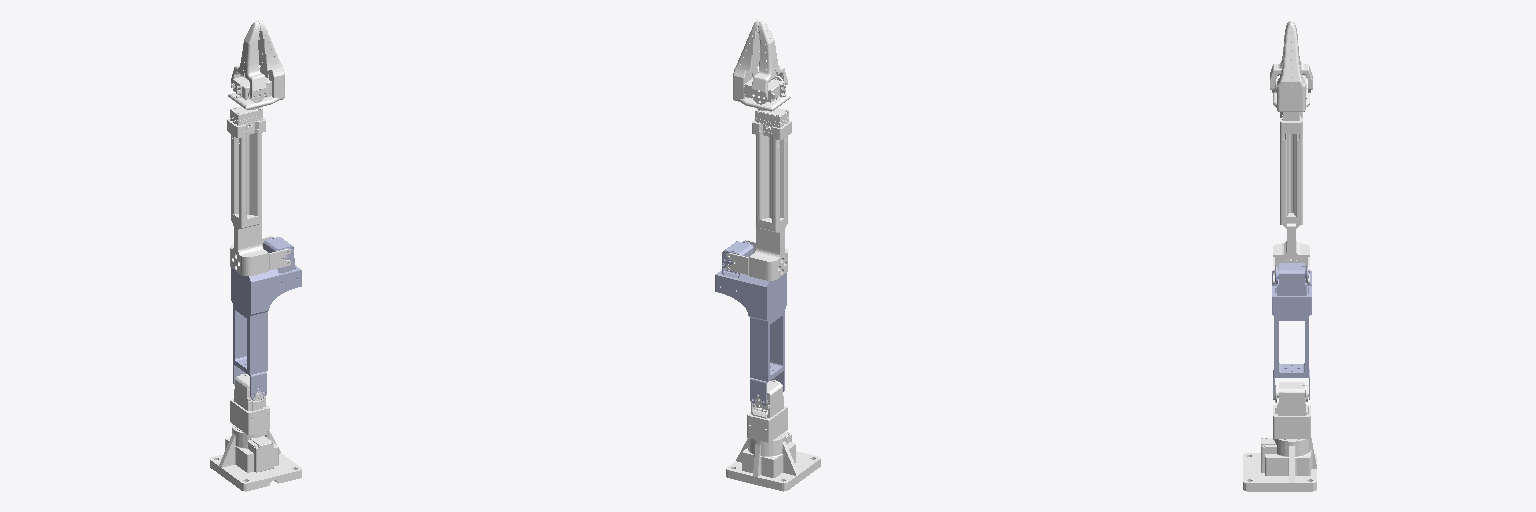
The robot description file, URDF, robot "flying_hand_follower":
<?xml version="1.0" encoding="utf-8"?>
<!-- This URDF was automatically created by SolidWorks to URDF Exporter! Originally created by Stephen Brawner (brawner@gmail.com)
     Commit Version: 1.6.0-4-g7f85cfe  Build Version: 1.6.7995.38578
     For more information, please see http://wiki.ros.org/sw_urdf_exporter -->
<robot
  name="flying_hand_follower">

  <mujoco>
    <compiler meshdir="meshes/" balanceinertia="true" discardvisual="false"/>
  </mujoco>

  <link
    name="base_link">
    <inertial>
      <origin
        xyz="0 -0.00732707 0.02792215"
        rpy="0 0 0" />
      <mass
        value="0.13025" />
      <inertia
        ixx="6.958E-05"
        ixy="0"
        ixz="0"
        iyy="5.706E-05"
        iyz="-6.69E-06"
        izz="5.852E-05" />
    </inertial>
    <visual>
      <origin
        xyz="0 0 0"
        rpy="0 0 0" />
      <geometry>
        <mesh
          filename="meshes/base_link.STL" />
      </geometry>
      <material
        name="">
        <color
          rgba="1 1 1 1" />
      </material>
    </visual>
    <collision>
      <origin
        xyz="0 0 0"
        rpy="0 0 0" />
      <geometry>
        <mesh
          filename="meshes/base_link.STL" />
      </geometry>
    </collision>
  </link>
  <link
    name="link_1">
    <inertial>
      <origin
        xyz="0.00156867 0 0.03460183"
        rpy="0 0 0" />
      <mass
        value="0.08581" />
      <inertia
        ixx="3.006E-05"
        ixy="0"
        ixz="-9E-07"
        iyy="3.717E-05"
        iyz="0"
        izz="1.849E-05" />
    </inertial>
    <visual>
      <origin
        xyz="0 0 0"
        rpy="0 0 0" />
      <geometry>
        <mesh
          filename="meshes/link_1.STL" />
      </geometry>
      <material
        name="">
        <color
          rgba="1 1 1 1" />
      </material>
    </visual>
    <collision>
      <origin
        xyz="0 0 0"
        rpy="0 0 0" />
      <geometry>
        <mesh
          filename="meshes/link_1.STL" />
      </geometry>
    </collision>
  </link>
  <joint
    name="joint_1"
    type="revolute">
    <origin
      xyz="0 0 0.0528"
      rpy="0 0 -1.5708" />
    <parent
      link="base_link" />
    <child
      link="link_1" />
    <axis
      xyz="0 0 1" />
    <limit
      lower="-2.8973"
      upper="2.8973"
      effort="3.43"
      velocity="4.72" />
  </joint>
  <link
    name="link_2">
    <inertial>
      <origin
        xyz="-0.0260946 0.13096995 -0.00115046"
        rpy="0 0 0" />
      <mass
        value="0.11524" />
      <inertia
        ixx="0.00023289"
        ixy="6.19E-05"
        ixz="-1.32E-06"
        iyy="6.035E-05"
        iyz="2.87E-06"
        izz="0.00025434" />
    </inertial>
    <visual>
      <origin
        xyz="0 0 0"
        rpy="0 0 0" />
      <geometry>
        <mesh
          filename="meshes/link_2.STL" />
      </geometry>
      <material
        name="">
        <color
          rgba="0.79216 0.81961 0.93333 1" />
      </material>
    </visual>
    <collision>
      <origin
        xyz="0 0 0"
        rpy="0 0 0" />
      <geometry>
        <mesh
          filename="meshes/link_2.STL" />
      </geometry>
    </collision>
  </link>
  <joint
    name="joint_2"
    type="revolute">
    <origin
      xyz="0 0 0.04861"
      rpy="1.5708 0 -1.5708" />
    <parent
      link="link_1" />
    <child
      link="link_2" />
    <axis
      xyz="0 0 1" />
    <limit
      lower="-1.7628"
      upper="1.7628"
      effort="4.903"
      velocity="8.95" />
  </joint>
  <link
    name="link_3">
    <inertial>
      <origin
        xyz="0.03950206 0.10829022 -0.00063991"
        rpy="0 0 0" />
      <mass
        value="0.0848" />
      <inertia
        ixx="0.00051159"
        ixy="-0.002503"
        ixz="2E-08"
        iyy="2.009E-05"
        iyz="5.6E-07"
        izz="0.00051731" />
    </inertial>
    <visual>
      <origin
        xyz="0 0 0"
        rpy="0 0 0" />
      <geometry>
        <mesh
          filename="meshes/link_3.STL" />
      </geometry>
      <material
        name="">
        <color
          rgba="1 1 1 1" />
      </material>
    </visual>
    <collision>
      <origin
        xyz="0 0 0"
        rpy="0 0 0" />
      <geometry>
        <mesh
          filename="meshes/link_3.STL" />
      </geometry>
    </collision>
  </link>
  <joint
    name="joint_3"
    type="revolute">
    <origin
      xyz="-0.03814 0.164 -0.0002"
      rpy="0 0 0" />
    <parent
      link="link_2" />
    <child
      link="link_3" />
    <axis
      xyz="0 0 1" />
    <limit
      lower="0"
      upper="1.7628"
      effort="3.43"
      velocity="4.72" />
  </joint>
  <link
    name="link_4">
    <inertial>
      <origin
        xyz="0.00571584 -0.00257461 0.02525144"
        rpy="0 0 0" />
      <mass
        value="0.05367" />
      <inertia
        ixx="1.617E-05"
        ixy="-8.4E-07"
        ixz="-3.04E-06"
        iyy="2.239E-05"
        iyz="-3.6E-07"
        izz="1.56E-05" />
    </inertial>
    <visual>
      <origin
        xyz="0 0 0"
        rpy="0 0 0" />
      <geometry>
        <mesh
          filename="meshes/link_4.STL" />
      </geometry>
      <material
        name="">
        <color
          rgba="1 1 1 1" />
      </material>
    </visual>
    <collision>
      <origin
        xyz="0 0 0"
        rpy="0 0 0" />
      <geometry>
        <mesh
          filename="meshes/link_4.STL" />
      </geometry>
    </collision>
  </link>
  <joint
    name="joint_4"
    type="revolute">
    <origin
      xyz="0.03582 0.1935 -0.00077"
      rpy="1.5708 0 -3.1416" />
    <parent
      link="link_3" />
    <child
      link="link_4" />
    <axis
      xyz="0 0 -1" />
    <limit
      lower="-2.8973"
      upper="2.8973"
      effort="1.39"
      velocity="10.47" />
  </joint>
  <link
    name="link_5">
    <inertial>
      <origin
        xyz="0.00154814 0.03015787 -0.01718948"
        rpy="0 0 0" />
      <mass
        value="0.00926" />
      <inertia
        ixx="5.17E-06"
        ixy="-2.5E-07"
        ixz="0"
        iyy="1.49E-06"
        iyz="7E-08"
        izz="4.12E-06" />
    </inertial>
    <visual>
      <origin
        xyz="0 0 0"
        rpy="0 0 0" />
      <geometry>
        <mesh
          filename="meshes/link_5.STL" />
      </geometry>
      <material
        name="">
        <color
          rgba="1 1 1 1" />
      </material>
    </visual>
    <collision>
      <origin
        xyz="0 0 0"
        rpy="0 0 0" />
      <geometry>
        <mesh
          filename="meshes/link_5.STL" />
      </geometry>
    </collision>
  </link>
  <joint
    name="joint_5"
    type="revolute">
    <origin
      xyz="-0.0044 -0.017722 0.02267"
      rpy="1.5708 0 0" />
    <parent
      link="link_4" />
    <child
      link="link_5" />
    <axis
      xyz="0 0 -1" />
    <limit
      lower="-1.7453"
      upper="0"
      effort="1.47"
      velocity="7.13" />
  </joint>
</robot>

--- Facts derived from the render (not from the file) ---
The picture shows the robot from 3 angles, left to right: view 1: azimuth 30°, elevation 25°; view 2: azimuth 150°, elevation 25°; view 3: azimuth 270°, elevation 25°; orthographic projection.
Robot: flying_hand_follower — 6 links, 5 joints (5 revolute); root link base_link; default pose: all joints at 0.
Visible links, largest first — view 1: link_3, link_2, base_link, link_4, link_1, link_5; view 2: link_3, link_2, base_link, link_4, link_1, link_5; view 3: base_link, link_3, link_2, link_1, link_4.
Boxes of the visible links, x1,y1,x2,y2 form: link_3: (227, 106, 290, 275); link_2: (231, 237, 301, 398); base_link: (210, 424, 301, 491); link_4: (228, 20, 284, 109); link_1: (230, 374, 269, 434); link_5: (231, 21, 266, 102); link_3: (726, 108, 791, 280); link_2: (715, 241, 786, 405); base_link: (726, 431, 820, 491); link_4: (733, 20, 790, 111); link_1: (747, 380, 787, 442); link_5: (752, 21, 787, 104); base_link: (1243, 438, 1316, 491); link_3: (1273, 112, 1309, 283); link_2: (1272, 263, 1311, 399); link_1: (1273, 382, 1310, 438); link_4: (1273, 22, 1309, 111).
Size in the robot's own frame: 0.0955 by 0.0825 by 0.5636 metres.
Meshes: 6 distinct files referenced, 6 mesh visuals loaded (6 binary STL).
